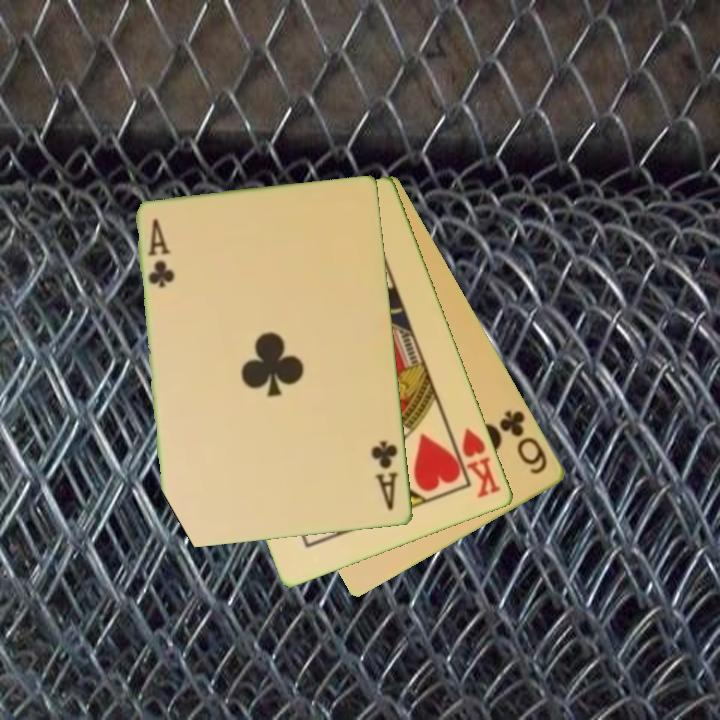6c: (496, 407, 551, 478)
Ac: (368, 437, 401, 514), (145, 215, 177, 292)
Kh: (448, 424, 504, 501)
